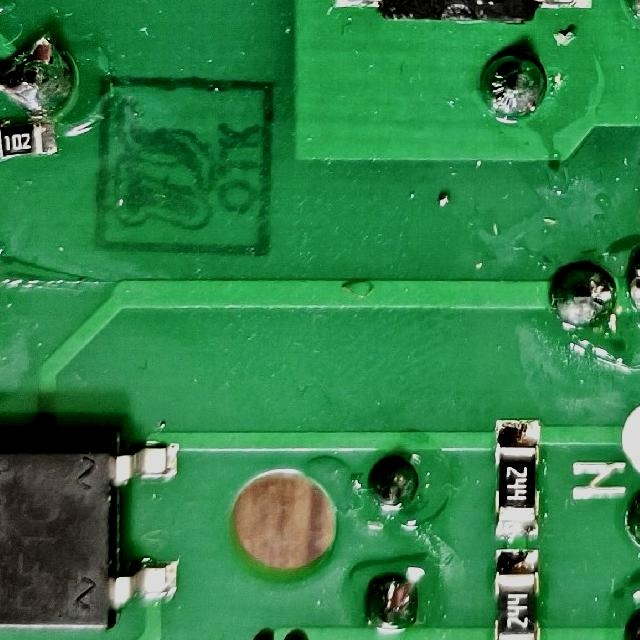chip-resistor: (492, 416, 543, 540), (491, 547, 541, 640), (0, 118, 57, 160)
ic: (0, 425, 180, 633)
